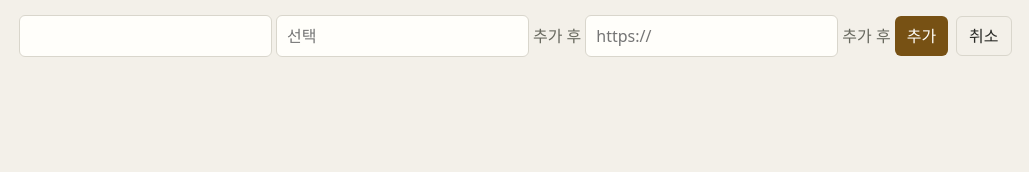
blocks invalid BPM and keeps the row draft when the server rejects a create
Type "싱글" into the field named "이름" at (146, 36), box [19,15,272,57]
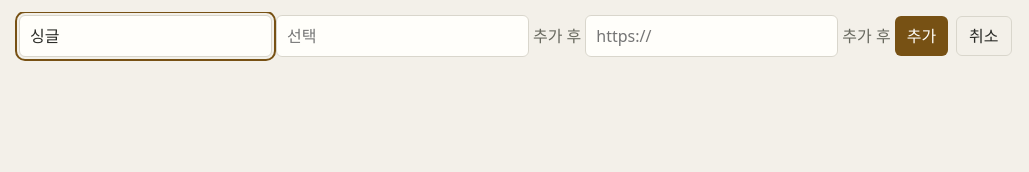
Type "59" into the field named "목표 BPM" at (402, 36), box [276,15,529,57]
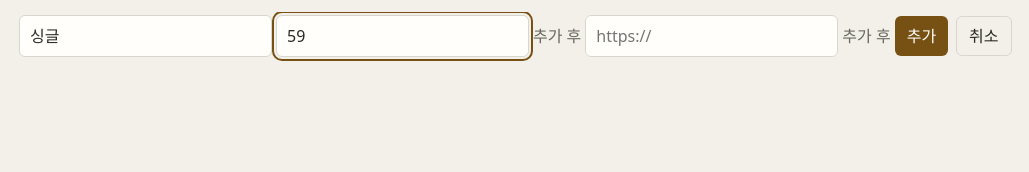
Click the button "추가" at (921, 36), box [895,16,948,56]
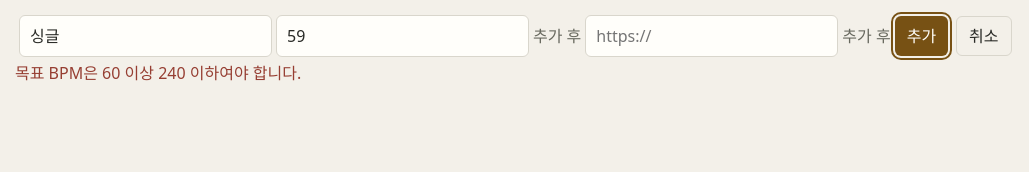
Now the message shows "60 이상 240 이하", box [15,62,301,84]
Replace the text in the 2nd field named "목표 BPM" with "60" at (402, 36), box [276,15,529,57]
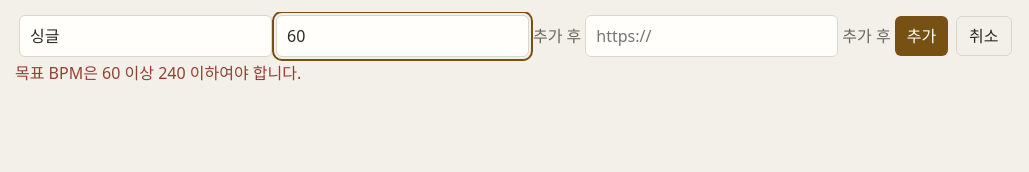
Click the button "추가" at (921, 36), box [895,16,948,56]
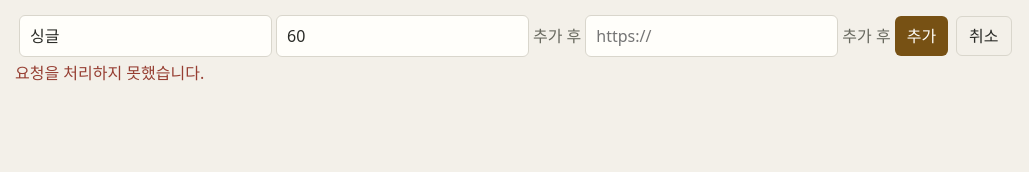
Now the message shows "요청을 처리하지 못했습니다", box [15,62,204,84]
